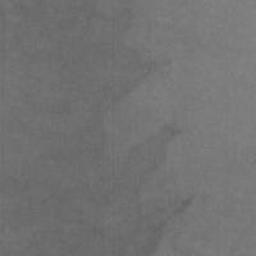Water spot: (0, 0, 201, 256)
